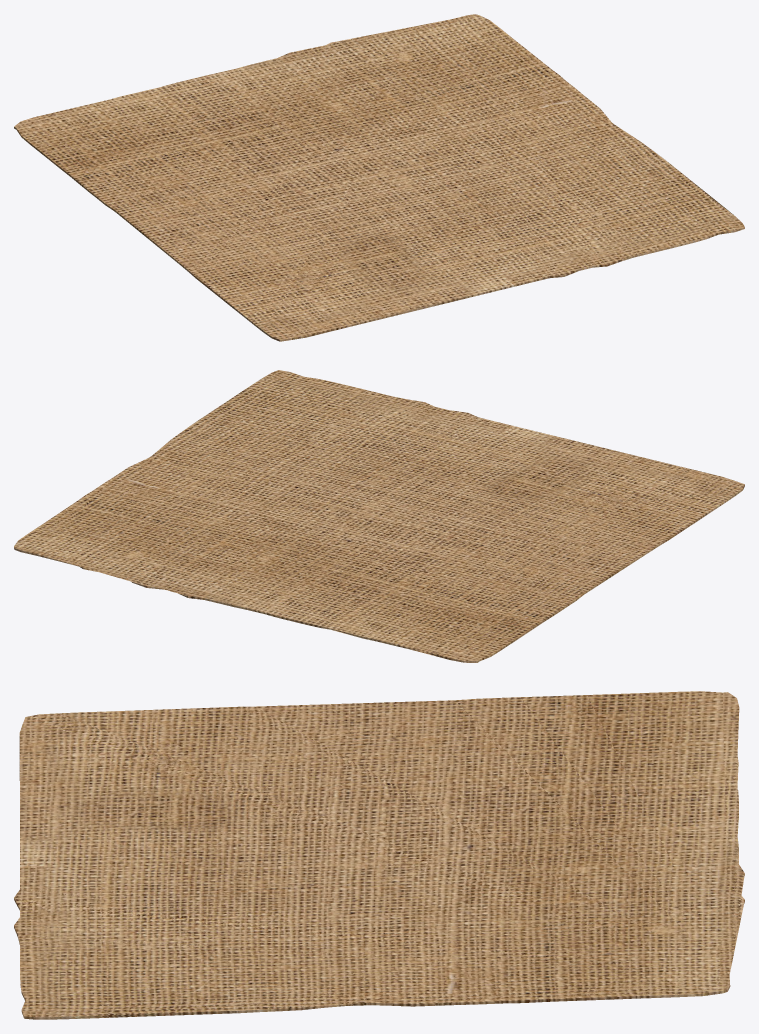
File: fabric_model.fbx
3 views of the same model, one above another, from view 1: azimuth 30°, elevation 25°; view 2: azimuth 150°, elevation 25°; view 3: azimuth 270°, elevation 25° (orthographic). The views are drawn at different scales.
Visible parts, largest first — view 1: Object_2; view 2: Object_2; view 3: Object_2.
Boxes of the visible parts, left/top/right/bottom form: Object_2: left=14, top=14, right=744, bottom=341; Object_2: left=14, top=370, right=744, bottom=662; Object_2: left=14, top=691, right=744, bottom=1019.
Size of the model in its own units: 9.84 by 9.99 by 0.4249.
Materials: 1 (1 with a texture image).
